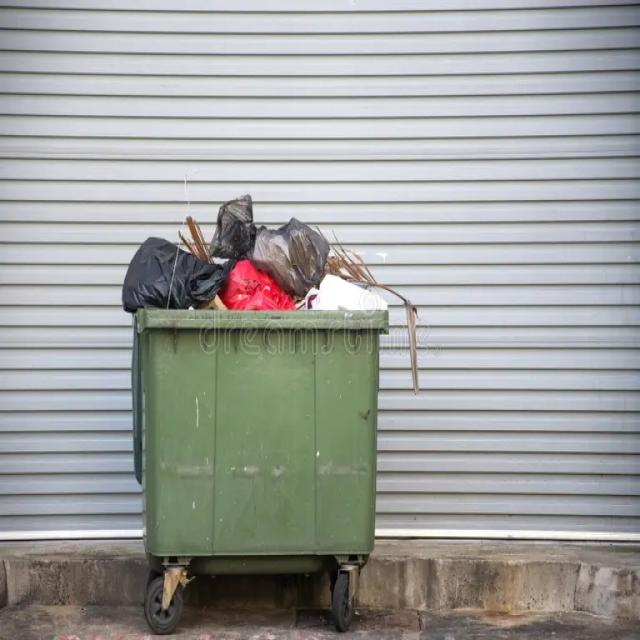bin_full: (136, 320, 388, 618)
normal_waste: (130, 230, 218, 316), (258, 218, 336, 301), (226, 259, 301, 324), (316, 254, 402, 303), (214, 184, 258, 259)
